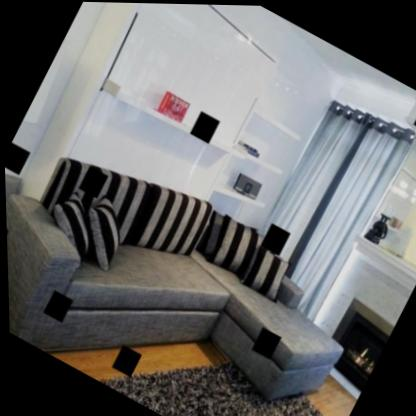Curtains: (232, 85, 416, 327)
Sofa: (9, 135, 337, 402)
